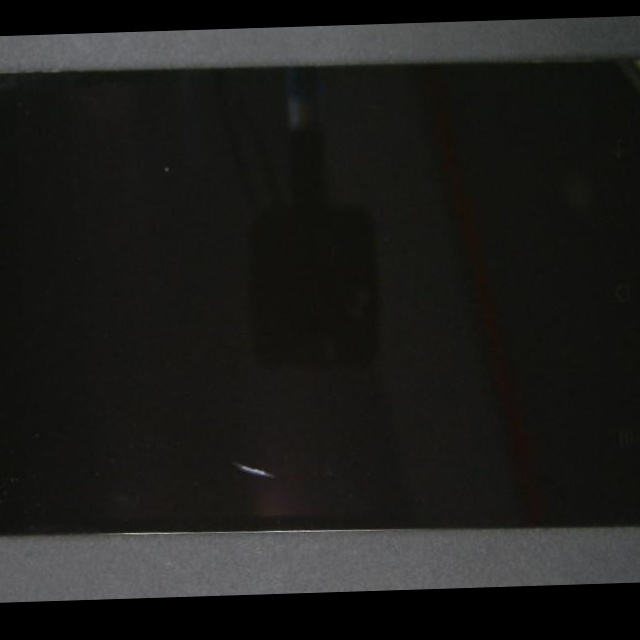scratch: (124, 269, 442, 599)
